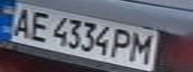3: (78, 20, 100, 54), (63, 17, 84, 51)
4: (45, 15, 72, 47), (93, 24, 115, 57)
A: (3, 6, 39, 38)
E: (21, 10, 54, 43)
M: (127, 30, 160, 64)
P: (109, 27, 136, 61)
